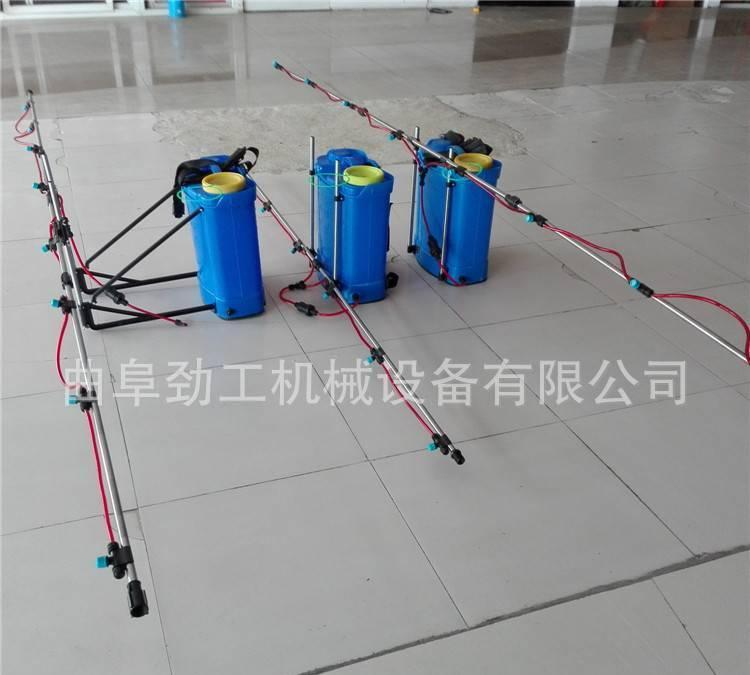berrl: (176, 154, 267, 320), (413, 131, 504, 287), (314, 147, 393, 306)
